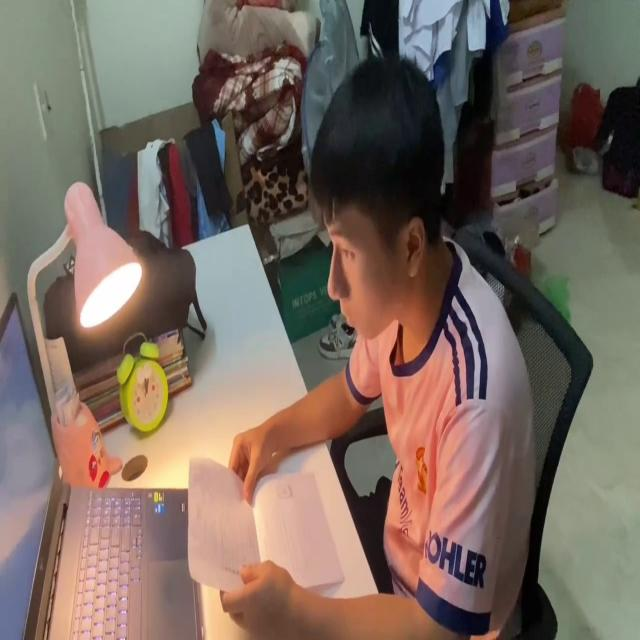book: (184, 450, 348, 595)
laptop: (0, 286, 200, 640)
student: (217, 41, 535, 640)
